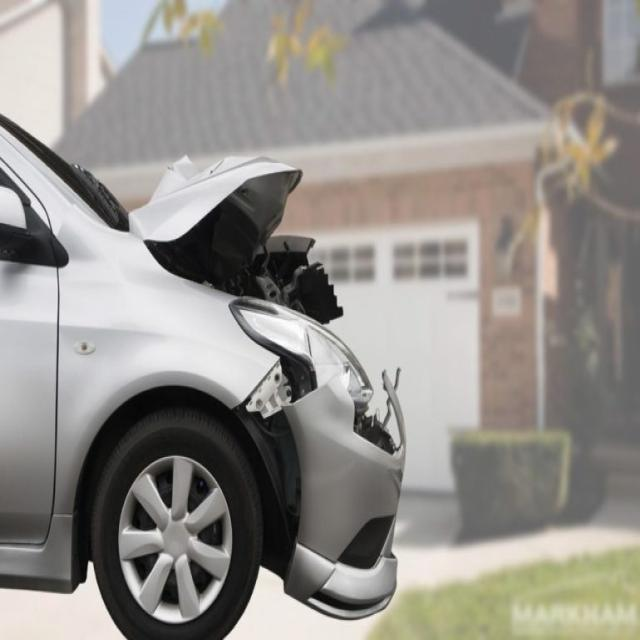crush: (127, 154, 406, 624)
